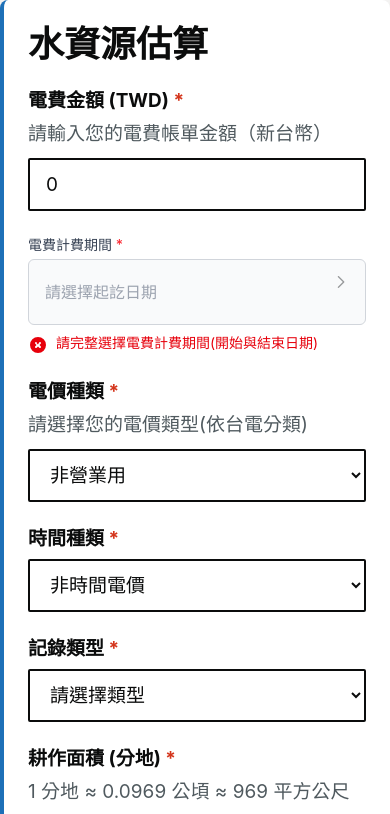
Test: CalculatorForm › should show validation error for invalid bill amount
# Set invalid value and wait for validation
Replace the text in the number field labelled "電費金額 (TWD) *" with "-100" at (197, 184), box [28, 158, 366, 211]
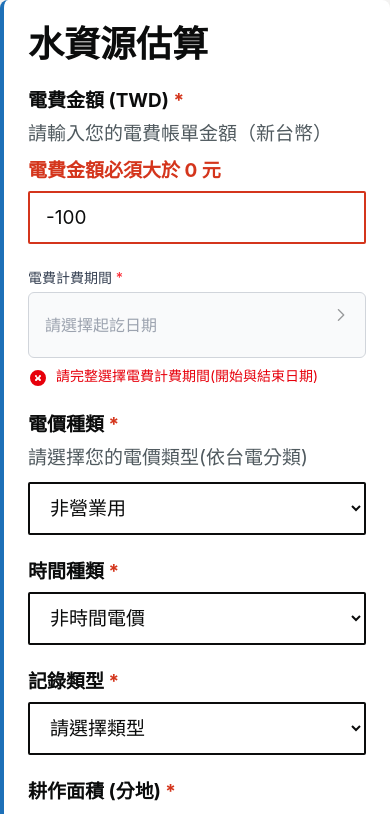
Expected: the text "電費金額必須大於 0 元" is shown, [28, 159, 221, 182]
